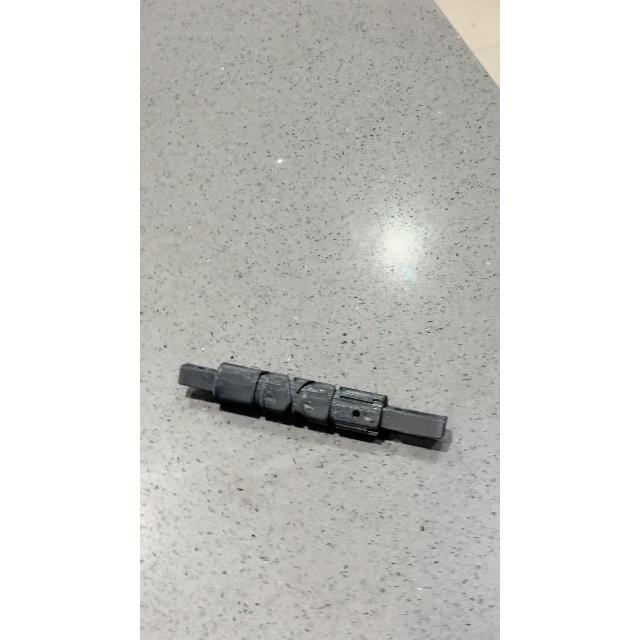Pieza1: (171, 332, 463, 482)
